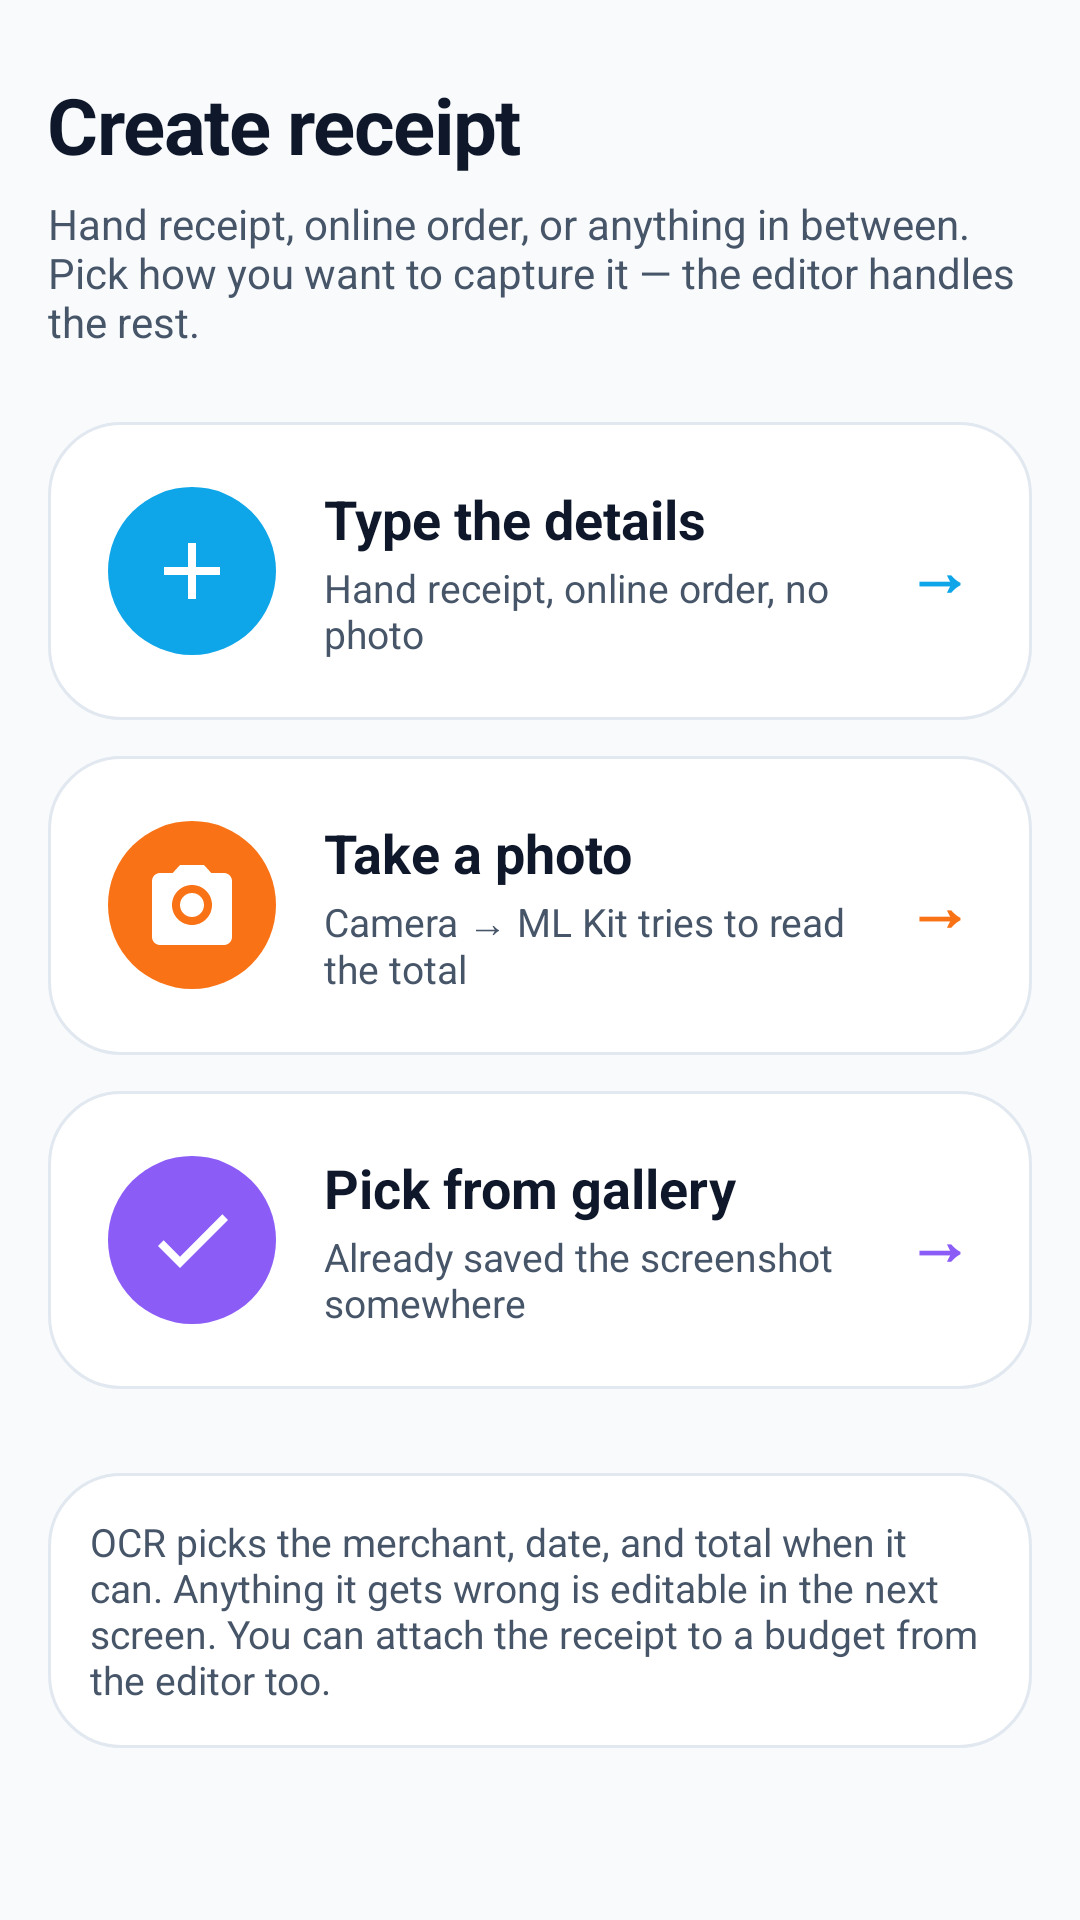

Where to tap for icons on this 1080 x 1920 app screen, as (x,y):
add: (192,571)
verified: (193,1241)
